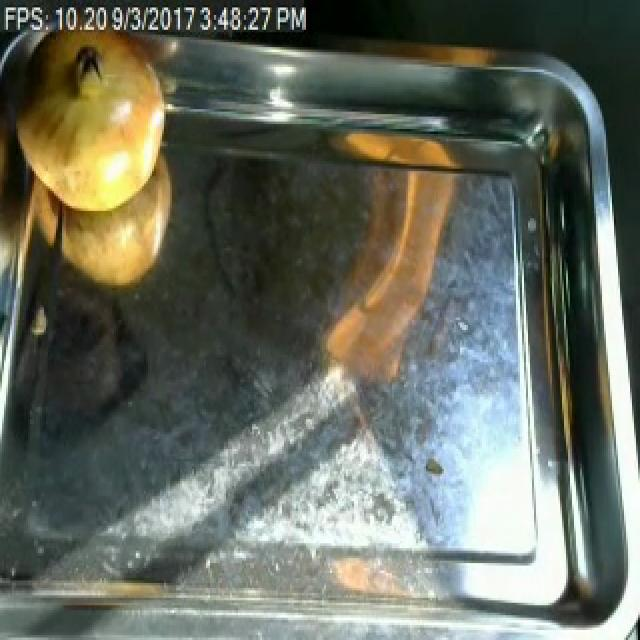fruit: (2, 0, 182, 226)
